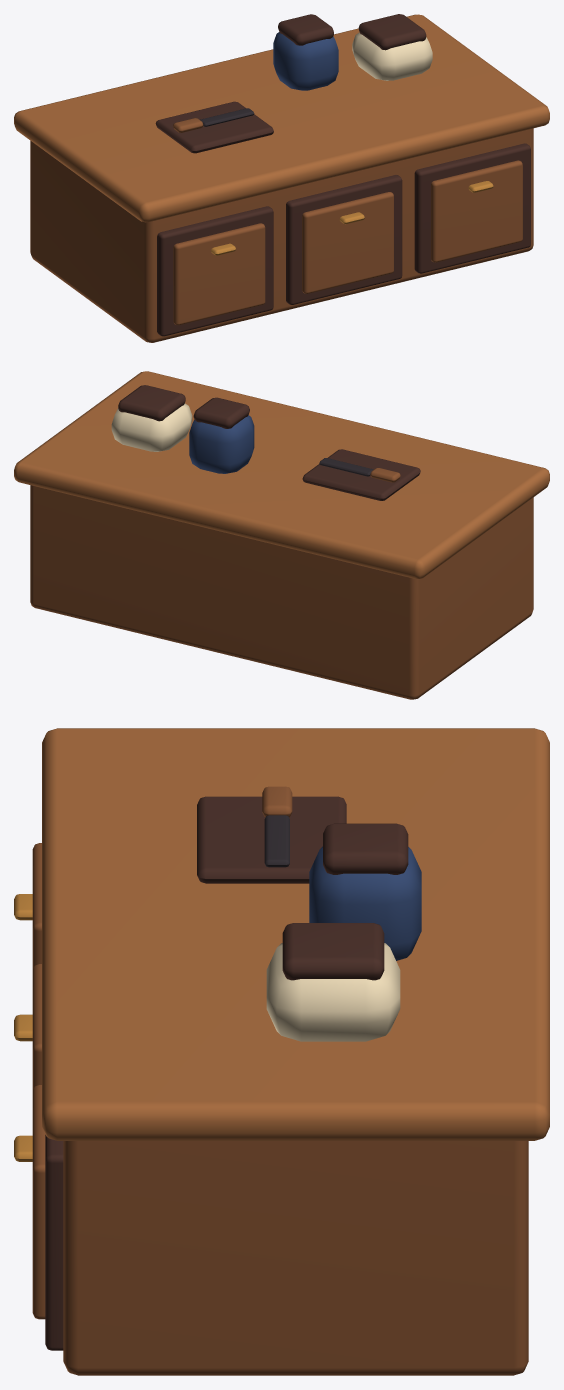
Rendered from kitchen-counter.glb.
3 views of the same model, one above another, from view 1: azimuth 30°, elevation 25°; view 2: azimuth 150°, elevation 25°; view 3: azimuth 270°, elevation 25° (orthographic). The views are drawn at different scales.
Visible parts, largest first — view 1: kitchen_counter_pivot_Mesh; view 2: kitchen_counter_pivot_Mesh; view 3: kitchen_counter_pivot_Mesh.
Part boxes in pixels (x1,y1,x2,y2): kitchen_counter_pivot_Mesh: (14, 14, 549, 342); kitchen_counter_pivot_Mesh: (14, 371, 549, 699); kitchen_counter_pivot_Mesh: (14, 728, 549, 1375).
Size of the model in its own units: 3.41 by 1.65 by 2.
